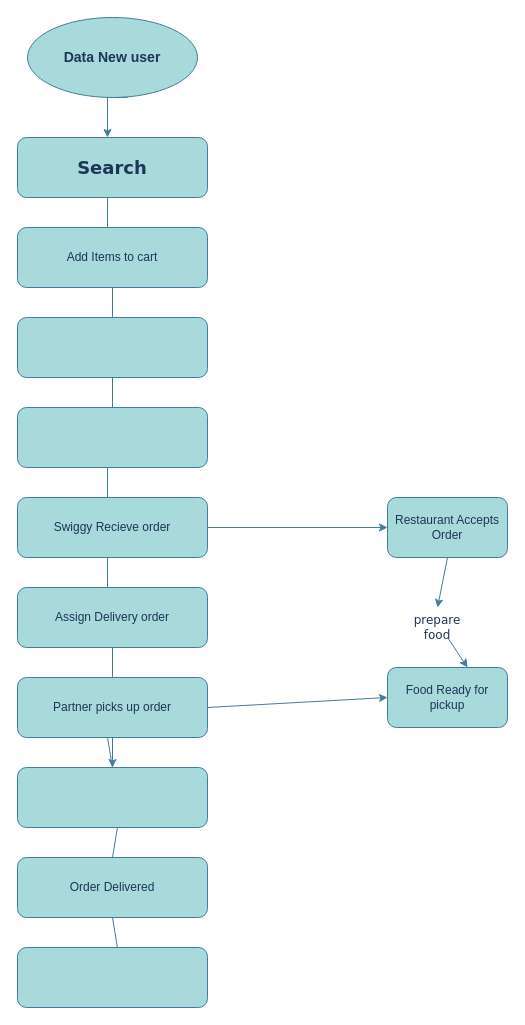
Some shapes in this 525 by 1025 pixel diagram are drawn without their labels. Here are the shapes that lost their labels. From the top down, the centre of each, then its label:
[112,347]: Confirm Address & Payment
[112,437]: Place order
[112,797]: Deliver to customer
[112,977]: User Rating & feedback
